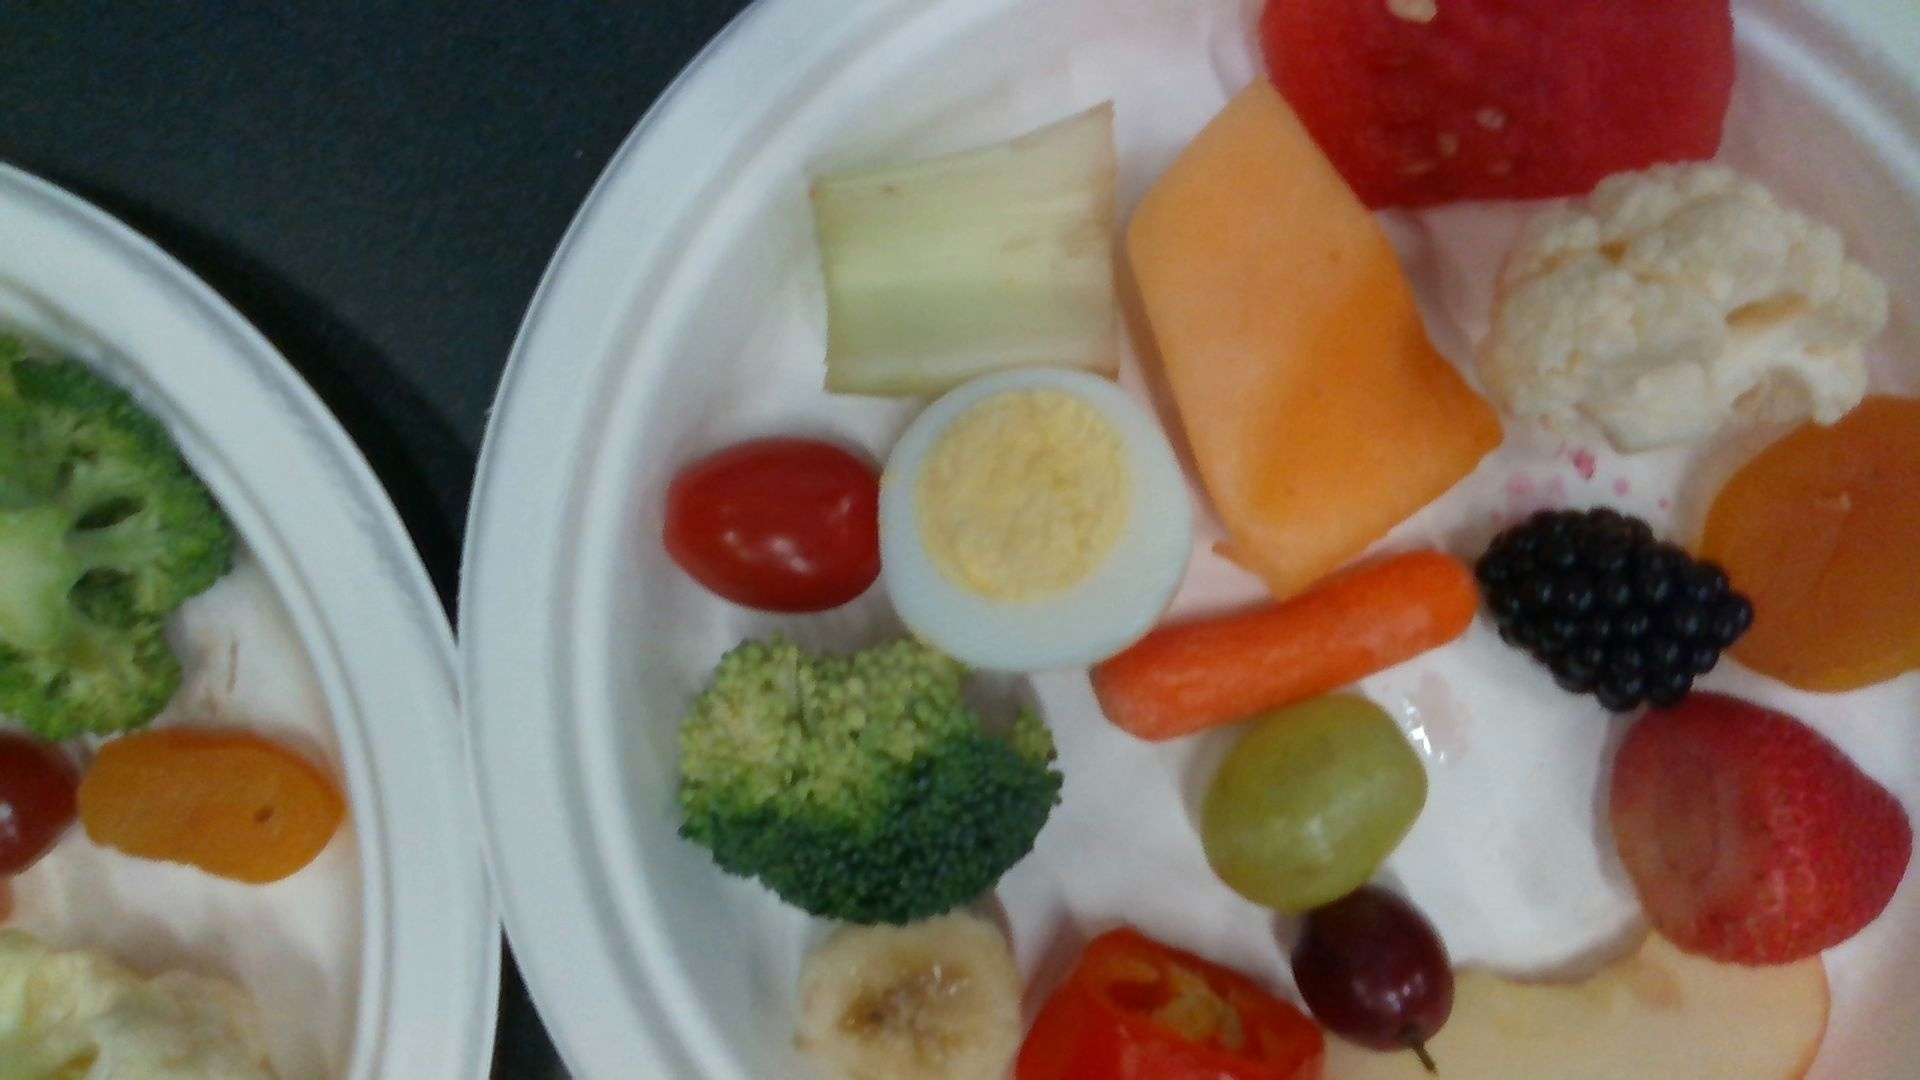apple: (1325, 928, 1829, 1080)
apricot: (1704, 396, 1920, 692), (76, 733, 342, 881)
banana: (799, 915, 1021, 1080)
bell_pepper: (1025, 928, 1325, 1080)
blackberry: (1485, 512, 1749, 708)
broccoli: (680, 636, 1058, 924), (1, 332, 233, 733)
cantalope: (1125, 78, 1495, 595)
carrot: (1095, 555, 1476, 740)
cauliflower: (1484, 161, 1887, 446)
celery: (814, 105, 1120, 393)
cherry_tomato: (665, 440, 880, 615)
egg: (880, 371, 1185, 663)
grape_green: (1205, 695, 1424, 905)
grape_purple: (1294, 885, 1452, 1051)
strawberry: (1611, 696, 1912, 960)
